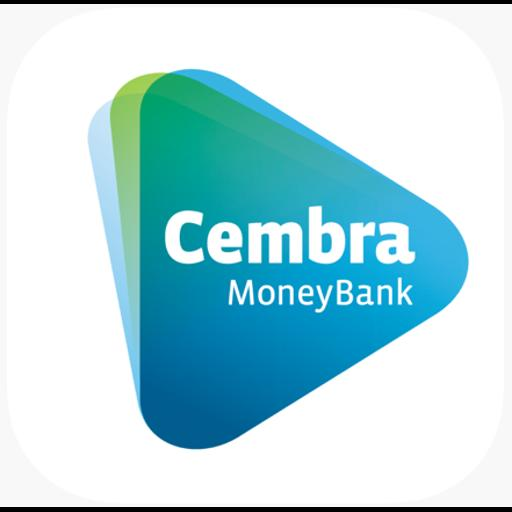Cembra Money Bank AG: (0, 4, 512, 507)
